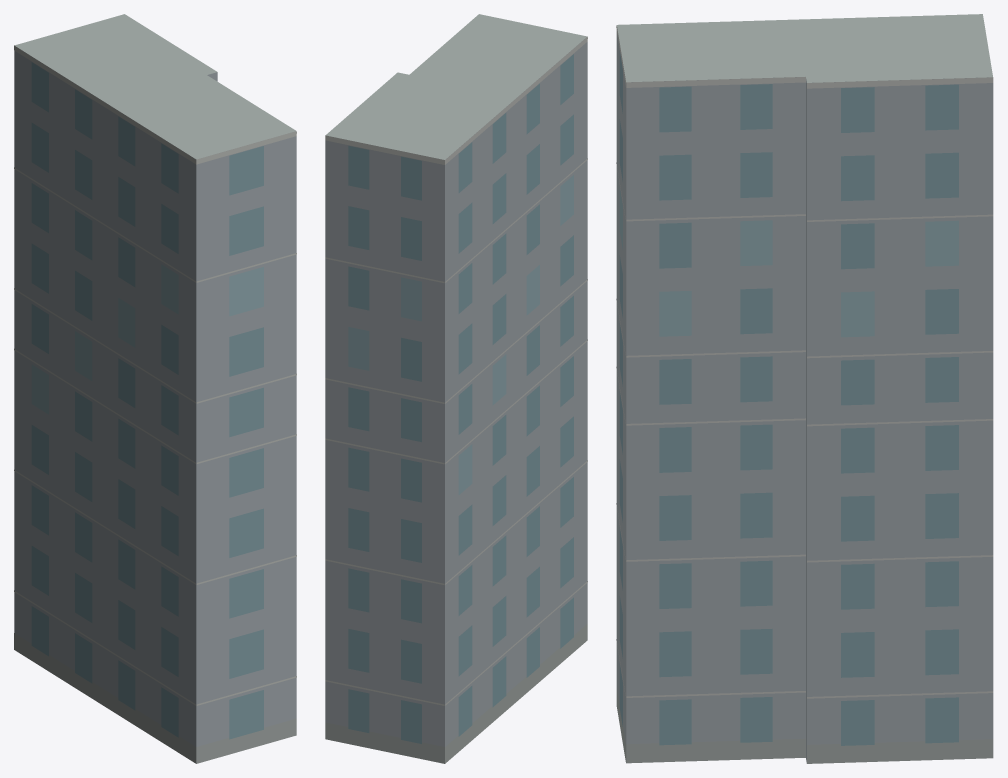
Rendered from survey-upis-32676686.glb.
3 views of the same model, side by side, from view 1: azimuth 30°, elevation 25°; view 2: azimuth 150°, elevation 25°; view 3: azimuth 270°, elevation 25° (orthographic). The views are drawn at different scales.
Visible parts, largest first — view 1: survey-upis-32676686.tmp; view 2: survey-upis-32676686.tmp; view 3: survey-upis-32676686.tmp.
Boxes of the visible parts, <box> form: survey-upis-32676686.tmp: <box>14,14,296,763</box>; survey-upis-32676686.tmp: <box>325,14,587,763</box>; survey-upis-32676686.tmp: <box>616,14,993,763</box>.
Size of the model in its own units: 6.36 by 29.15 by 14.63.
